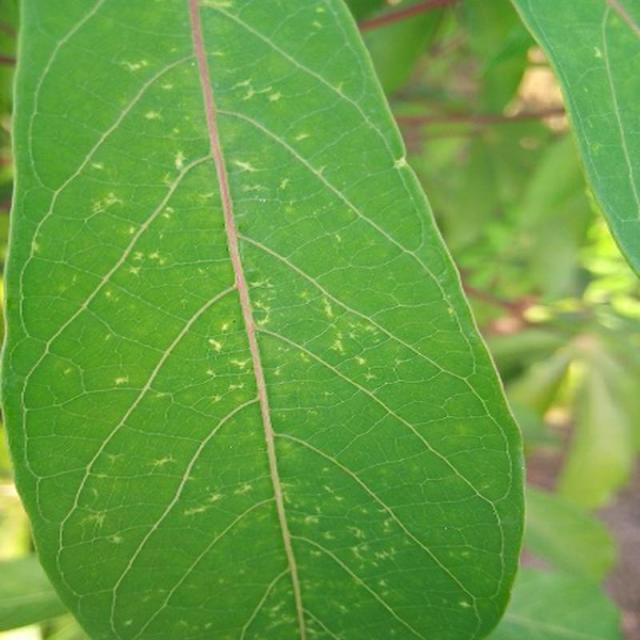cassava leaf: (2, 0, 528, 638), (511, 0, 640, 279)
